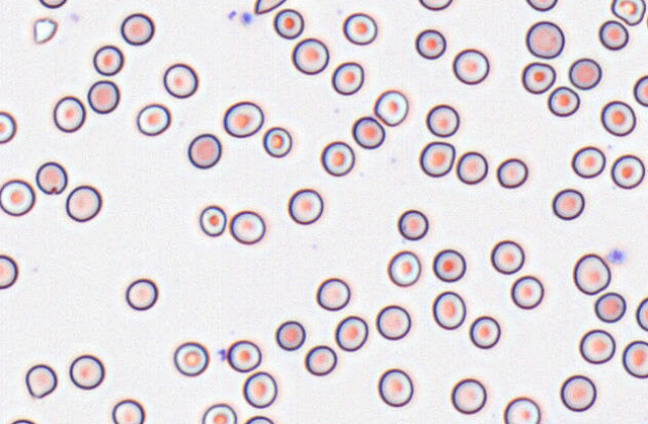PLT: (607, 247, 626, 264), (241, 11, 254, 23)
RBC: (573, 253, 610, 294), (223, 100, 264, 137), (525, 20, 564, 58), (559, 374, 596, 412), (291, 37, 329, 74), (377, 368, 413, 407), (65, 184, 101, 222), (432, 290, 466, 330), (450, 377, 486, 414), (452, 48, 489, 84), (0, 178, 35, 216), (419, 141, 455, 177), (375, 304, 411, 340), (600, 100, 636, 136), (287, 188, 323, 224), (242, 371, 277, 408), (373, 89, 408, 126), (579, 329, 615, 364), (173, 341, 209, 376), (163, 62, 198, 98), (320, 140, 355, 176), (69, 354, 104, 389), (610, 154, 645, 189), (334, 315, 368, 351), (229, 210, 265, 244), (387, 250, 421, 286), (52, 95, 85, 132), (187, 133, 221, 168), (490, 239, 524, 274), (432, 248, 466, 282), (226, 339, 261, 372), (315, 277, 350, 310), (342, 12, 377, 45), (521, 61, 555, 94), (351, 116, 385, 149), (571, 145, 605, 178), (510, 275, 543, 309), (425, 104, 459, 137), (120, 12, 154, 45), (136, 103, 170, 136), (331, 61, 364, 95), (25, 363, 57, 398), (87, 79, 119, 114), (456, 151, 488, 184), (304, 344, 337, 376), (35, 161, 67, 194), (125, 278, 158, 310), (568, 57, 601, 89), (469, 315, 500, 349), (503, 396, 540, 424), (552, 188, 584, 220), (594, 292, 626, 323), (547, 85, 579, 116), (622, 340, 648, 378), (273, 8, 304, 39), (496, 157, 527, 188), (415, 28, 446, 59), (397, 209, 428, 240), (93, 44, 123, 76), (262, 126, 292, 157), (598, 20, 628, 50), (275, 320, 305, 350), (610, 0, 645, 25), (199, 204, 226, 236), (111, 398, 145, 423), (201, 403, 237, 423), (0, 254, 18, 289), (0, 110, 16, 144), (633, 74, 648, 106), (253, 0, 286, 14), (635, 296, 648, 331), (525, 0, 557, 11), (418, 0, 452, 10), (242, 415, 274, 423), (38, 0, 67, 8), (10, 418, 36, 424), (645, 7, 648, 30)
Schistocyte: (33, 17, 61, 46)
